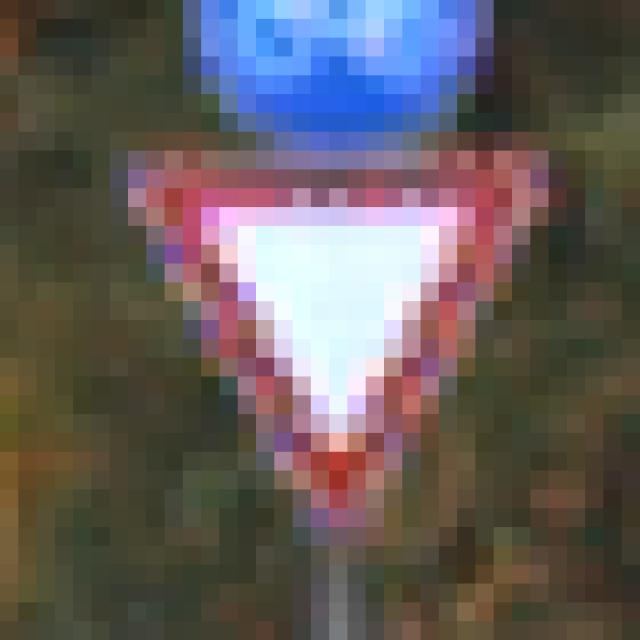Give Way: (93, 114, 532, 547)
